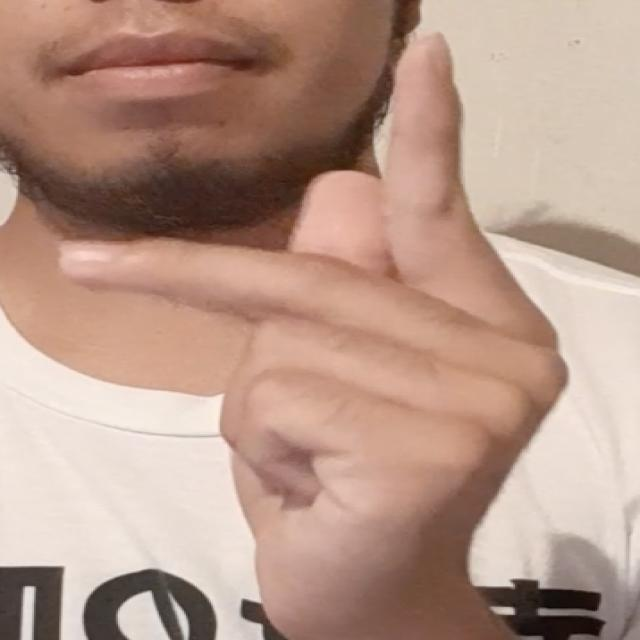P: (48, 26, 574, 640)
